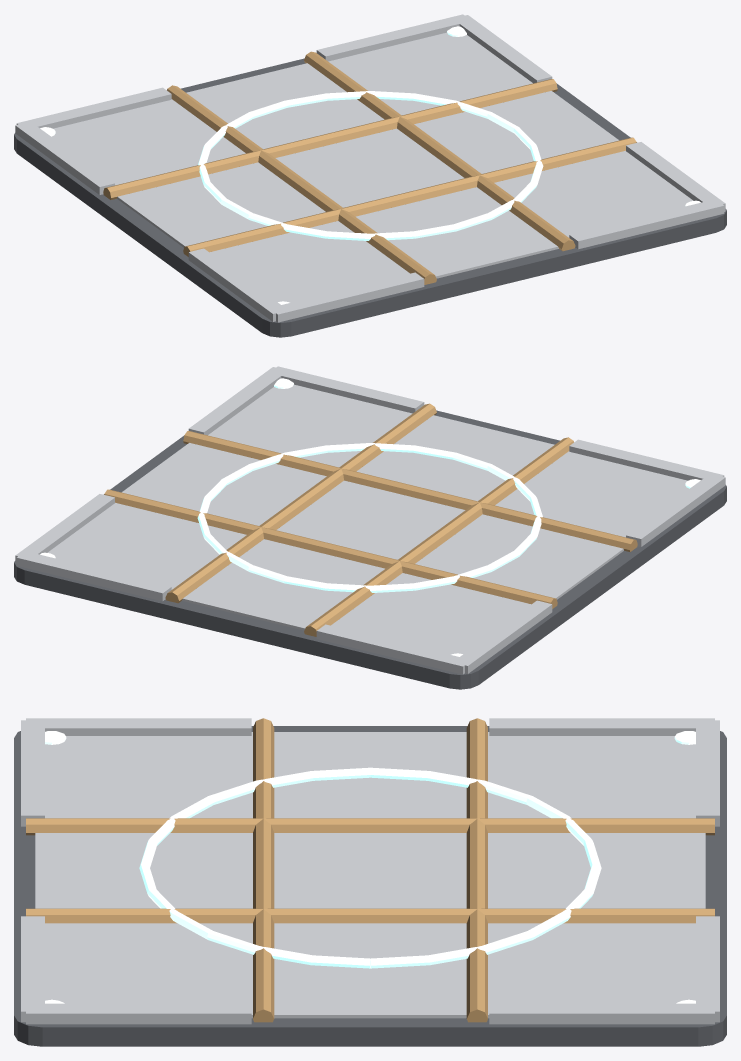
The model's file is hover-transit-and-antigrav-fleet-repulsor-road-plate-c-37eacc24__17100.glb.
3 views of the same model, one above another, from view 1: azimuth 30°, elevation 25°; view 2: azimuth 150°, elevation 25°; view 3: azimuth 270°, elevation 25° (orthographic). The views are drawn at different scales.
Visible parts, largest first — view 1: repulsor-road-plate-cross; view 2: repulsor-road-plate-cross; view 3: repulsor-road-plate-cross.
Part boxes in pixels (x1,y1,x2,y2): repulsor-road-plate-cross: (14, 14, 726, 337); repulsor-road-plate-cross: (14, 366, 726, 689); repulsor-road-plate-cross: (14, 718, 726, 1046).
Size of the model in its own units: 6 by 0.3051 by 6.
